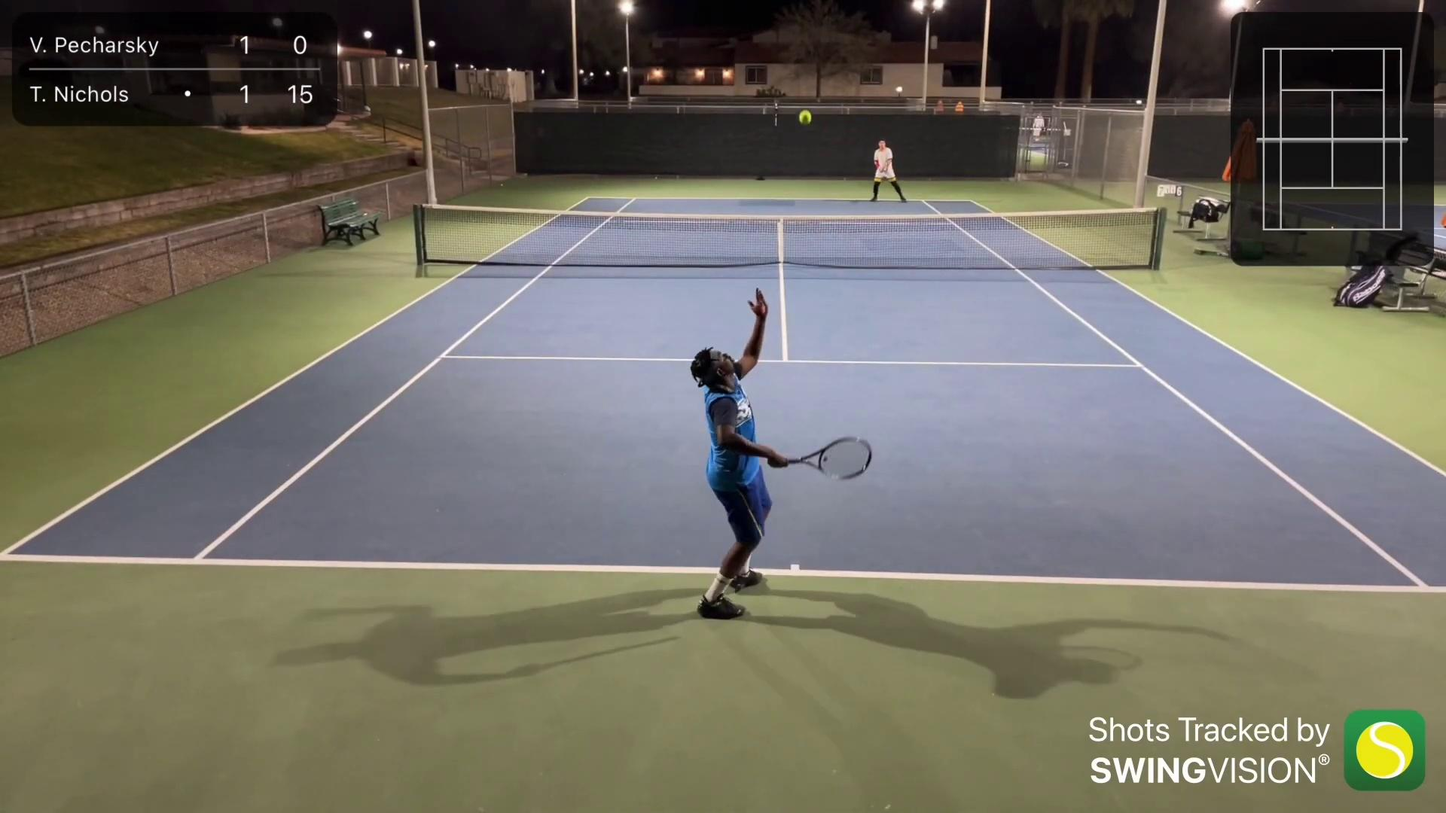ball: (797, 107, 813, 127)
